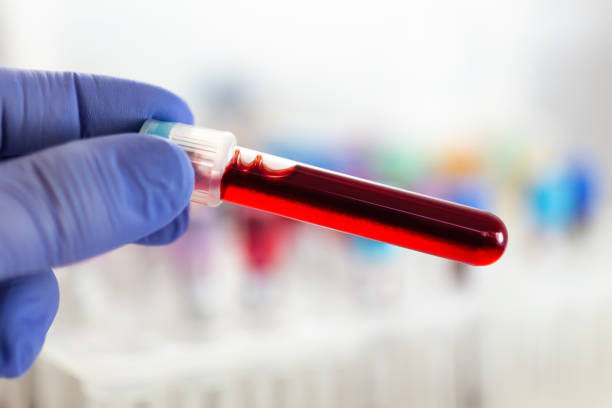blood: (215, 152, 510, 265)
